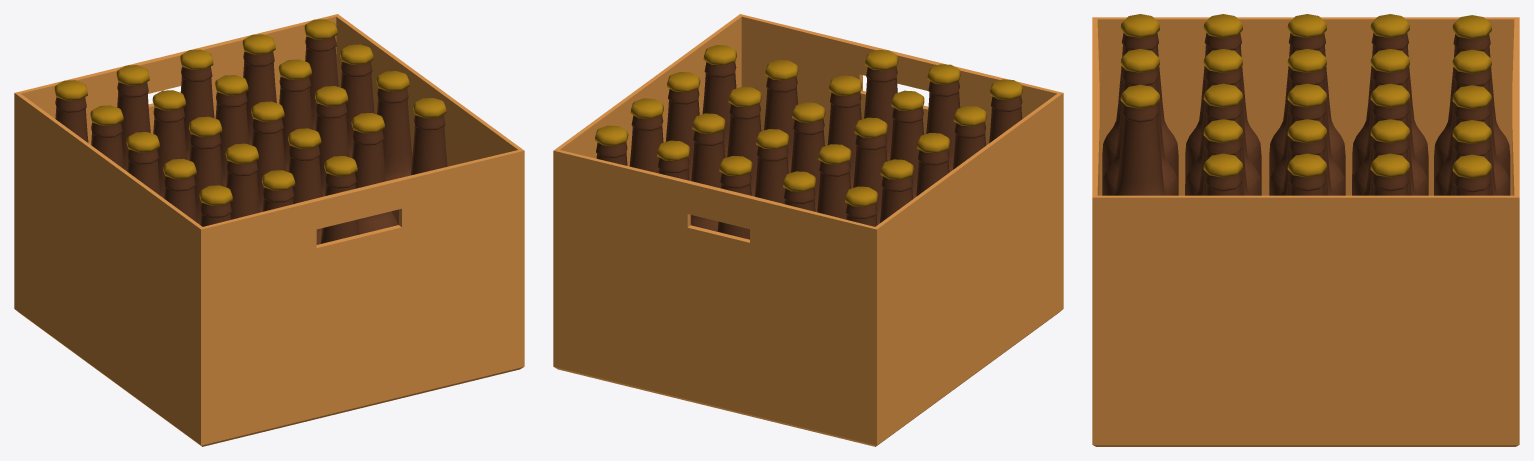
File: Drink Box.fbx
3 views of the same model, side by side, from view 1: azimuth 30°, elevation 25°; view 2: azimuth 150°, elevation 25°; view 3: azimuth 270°, elevation 25° (orthographic). The views are drawn at different scales.
Visible parts, largest first — view 1: Box; view 2: Box; view 3: Box.
Part boxes in pixels (x1,y1,x2,y2): Box: (14,14,524,446); Box: (553,14,1063,446); Box: (1092,14,1519,446).
Bounding box in the file's own units: 53.81 × 37.15 × 53.81.
